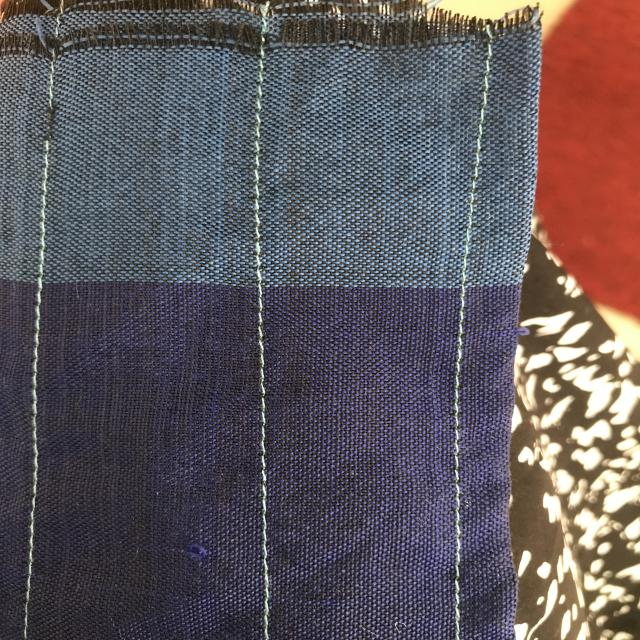good: (248, 378, 291, 624), (21, 298, 50, 571), (441, 328, 478, 530), (248, 102, 277, 275)
